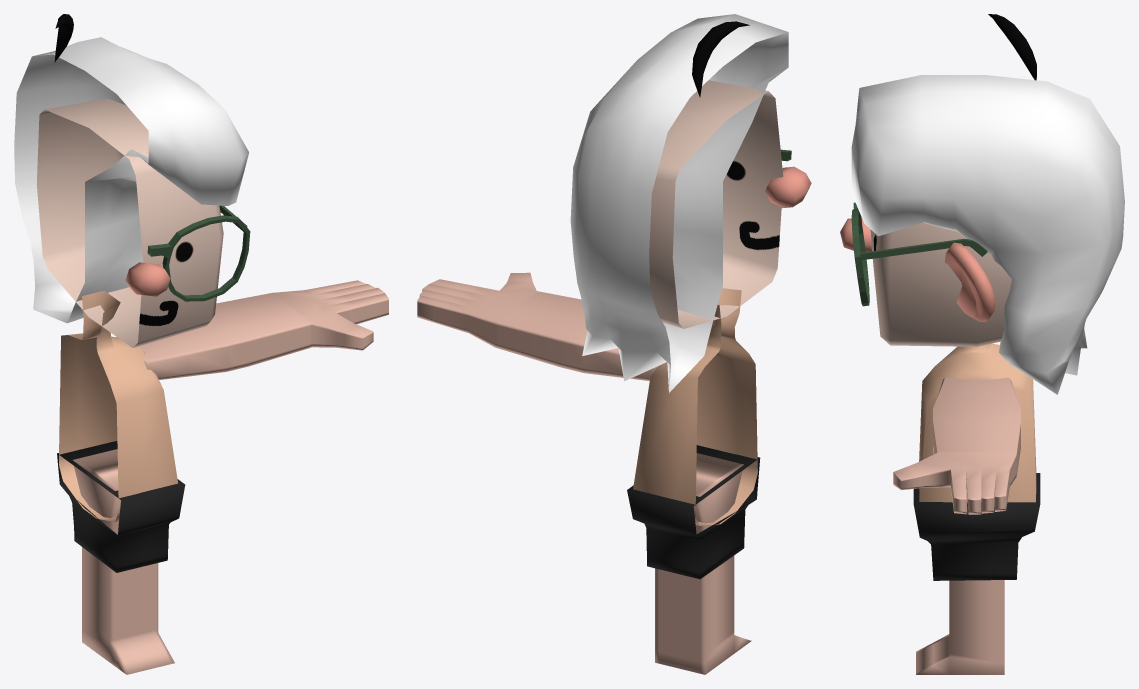
3 renders of one model, left to right at view 1: azimuth 30°, elevation 25°; view 2: azimuth 150°, elevation 25°; view 3: azimuth 270°, elevation 25°, orthographic. The views are drawn at different scales.
Visible parts, largest first — view 1: head.hair, head, body, body.arm, body.leg, body.short, head.glass, head.nose, head.cowlick; view 2: head.hair, head, body, body.arm, body.leg, body.short, head.nose, head.cowlick; view 3: head.hair, body.arm, head, body.short, body, body.leg, head.ear, head.glass, head.cowlick, head.nose.
Part boxes in pixels (x1=…): head.hair: x1=14, y1=37, x2=248, y2=323; head: x1=36, y1=98, x2=223, y2=347; body: x1=59, y1=290, x2=178, y2=521; body.arm: x1=116, y1=280, x2=388, y2=379; body.leg: x1=73, y1=449, x2=174, y2=674; body.short: x1=57, y1=441, x2=185, y2=572; head.glass: x1=147, y1=205, x2=250, y2=301; head.nose: x1=125, y1=262, x2=170, y2=296; head.cowlick: x1=54, y1=14, x2=73, y2=62; head.hair: x1=570, y1=14, x2=788, y2=392; head: x1=649, y1=80, x2=783, y2=328; body: x1=633, y1=288, x2=757, y2=525; body.arm: x1=417, y1=272, x2=659, y2=380; body.leg: x1=655, y1=453, x2=751, y2=674; body.short: x1=627, y1=445, x2=760, y2=579; head.nose: x1=765, y1=166, x2=811, y2=208; head.cowlick: x1=692, y1=21, x2=749, y2=97; head.hair: x1=851, y1=75, x2=1124, y2=394; body.arm: x1=893, y1=377, x2=1020, y2=514; head: x1=870, y1=222, x2=1011, y2=346; body.short: x1=913, y1=473, x2=1040, y2=580; body: x1=919, y1=343, x2=1036, y2=502; body.leg: x1=916, y1=580, x2=1004, y2=674; head.ear: x1=945, y1=242, x2=995, y2=321; head.glass: x1=851, y1=202, x2=987, y2=306; head.cowlick: x1=988, y1=14, x2=1036, y2=80; head.nose: x1=840, y1=218, x2=871, y2=251.
Size of the model in its own units: 3.53 by 6.67 by 2.76.
Materials: 8 (1 with a texture image).
